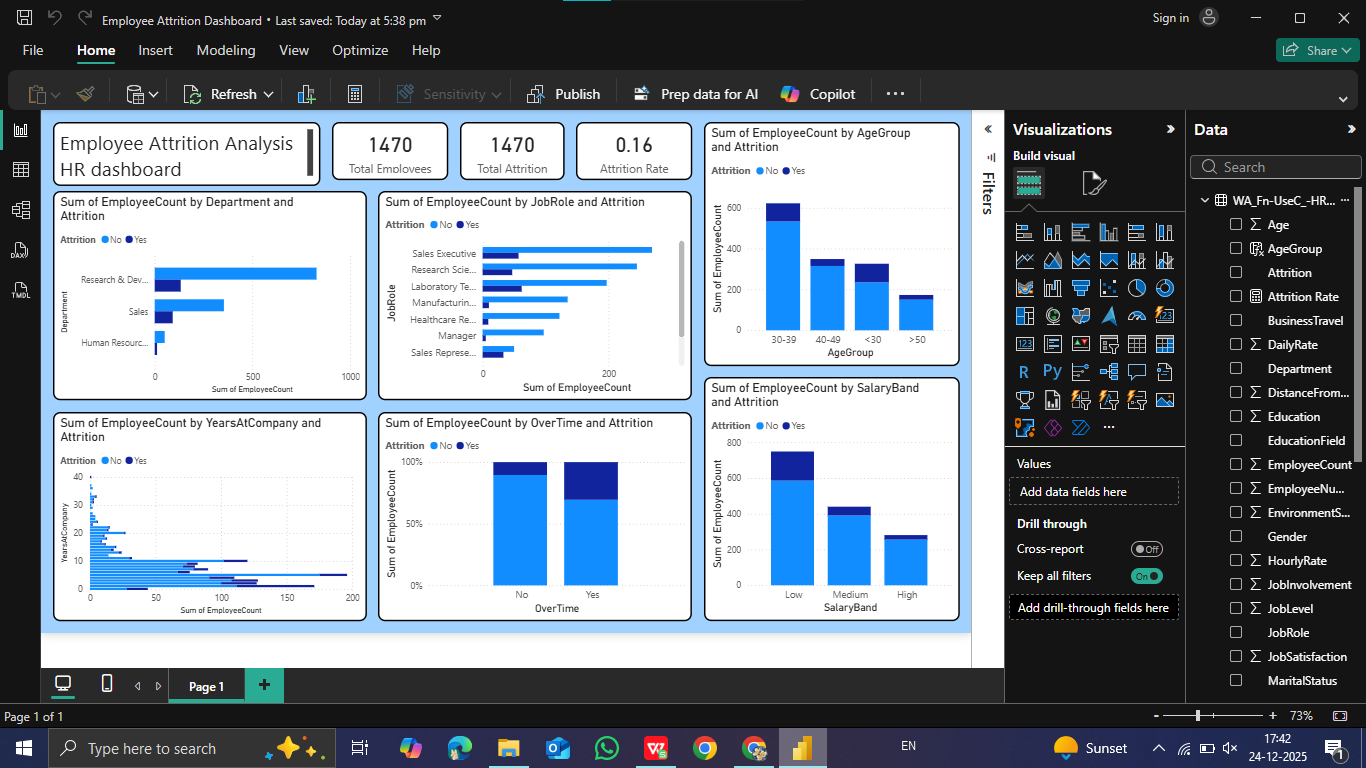

Layout of this report page (visuals, bound fields, positions):
{"tool":"powerbi","page":{"name":"Page 1","canvas":[1280,720],"ordinal":0},"visuals":[{"type":"card","fields":{"Values":["Sum(WA_Fn-UseC_-HR-Employee-Attrition.EmployeeCount)"]},"box":[400,16,160,80],"z":0},{"type":"card","fields":{"Values":["CountNonNull(WA_Fn-UseC_-HR-Employee-Attrition.Attrition)"]},"box":[576,16,144,80],"z":1000},{"type":"card","fields":{"Values":["WA_Fn-UseC_-HR-Employee-Attrition.Attrition Rate"]},"box":[736,16,160,80],"z":2000},{"type":"clusteredBarChart","fields":{"Category":["WA_Fn-UseC_-HR-Employee-Attrition.Department"],"Series":["WA_Fn-UseC_-HR-Employee-Attrition.Attrition"],"Y":["Sum(WA_Fn-UseC_-HR-Employee-Attrition.EmployeeCount)"]},"box":[16,112,432,288],"z":3000},{"type":"clusteredBarChart","fields":{"Category":["WA_Fn-UseC_-HR-Employee-Attrition.JobRole"],"Y":["Sum(WA_Fn-UseC_-HR-Employee-Attrition.EmployeeCount)"],"Series":["WA_Fn-UseC_-HR-Employee-Attrition.Attrition"]},"box":[464,112,432,288],"z":4000},{"type":"columnChart","fields":{"Category":["WA_Fn-UseC_-HR-Employee-Attrition.AgeGroup"],"Y":["Sum(WA_Fn-UseC_-HR-Employee-Attrition.EmployeeCount)"],"Series":["WA_Fn-UseC_-HR-Employee-Attrition.Attrition"]},"box":[912,16,352,336],"z":5000},{"type":"columnChart","fields":{"Category":["WA_Fn-UseC_-HR-Employee-Attrition.SalaryBand"],"Y":["Sum(WA_Fn-UseC_-HR-Employee-Attrition.EmployeeCount)"],"Series":["WA_Fn-UseC_-HR-Employee-Attrition.Attrition"]},"box":[912,368,352,336],"z":6000},{"type":"barChart","fields":{"Category":["WA_Fn-UseC_-HR-Employee-Attrition.YearsAtCompany"],"Y":["Sum(WA_Fn-UseC_-HR-Employee-Attrition.EmployeeCount)"],"Series":["WA_Fn-UseC_-HR-Employee-Attrition.Attrition"]},"box":[16,416,432,288],"z":7000},{"type":"hundredPercentStackedColumnChart","fields":{"Category":["WA_Fn-UseC_-HR-Employee-Attrition.OverTime"],"Y":["Sum(WA_Fn-UseC_-HR-Employee-Attrition.EmployeeCount)"],"Series":["WA_Fn-UseC_-HR-Employee-Attrition.Attrition"]},"box":[464,416,432,288],"z":8000},{"type":"textbox","box":[16,16,368,88],"z":9000}]}

Visuals, with their boxes on the page's 1280x720 design canvas (x1, y1, x2, y2). These are canvas units, not pixel positions in the 1366x768 screenshot, which may show the page scaled, cropped or inside an application window:
card - Sum(WA_Fn-UseC_-HR-Employee-Attrition.EmployeeCount): l=400, t=16, r=560, b=96
card - CountNonNull(WA_Fn-UseC_-HR-Employee-Attrition.Attrition): l=576, t=16, r=720, b=96
card - WA_Fn-UseC_-HR-Employee-Attrition.Attrition Rate: l=736, t=16, r=896, b=96
clusteredBarChart - WA_Fn-UseC_-HR-Employee-Attrition.Department x WA_Fn-UseC_-HR-Employee-Attrition.Attrition: l=16, t=112, r=448, b=400
clusteredBarChart - WA_Fn-UseC_-HR-Employee-Attrition.JobRole x Sum(WA_Fn-UseC_-HR-Employee-Attrition.EmployeeCount): l=464, t=112, r=896, b=400
columnChart - WA_Fn-UseC_-HR-Employee-Attrition.AgeGroup x Sum(WA_Fn-UseC_-HR-Employee-Attrition.EmployeeCount): l=912, t=16, r=1264, b=352
columnChart - WA_Fn-UseC_-HR-Employee-Attrition.SalaryBand x Sum(WA_Fn-UseC_-HR-Employee-Attrition.EmployeeCount): l=912, t=368, r=1264, b=704
barChart - WA_Fn-UseC_-HR-Employee-Attrition.YearsAtCompany x Sum(WA_Fn-UseC_-HR-Employee-Attrition.EmployeeCount): l=16, t=416, r=448, b=704
hundredPercentStackedColumnChart - WA_Fn-UseC_-HR-Employee-Attrition.OverTime x Sum(WA_Fn-UseC_-HR-Employee-Attrition.EmployeeCount): l=464, t=416, r=896, b=704
textbox: l=16, t=16, r=384, b=104
